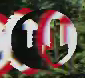Two way: (10, 2, 79, 70)
